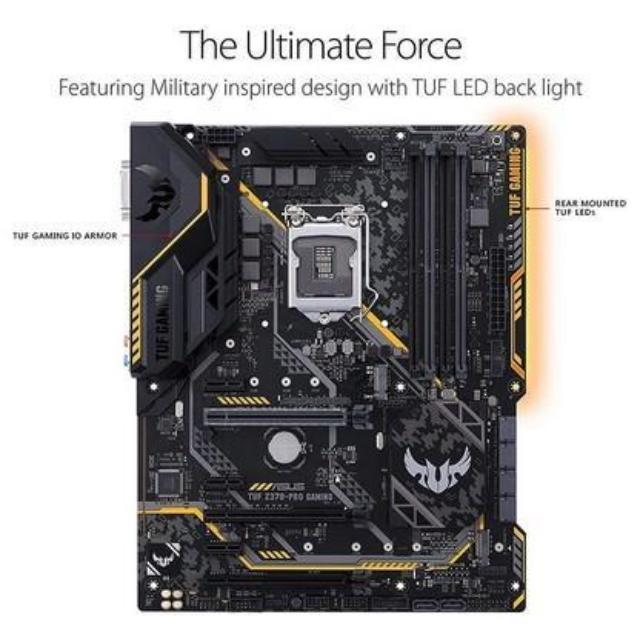Mainboard: (124, 110, 538, 622)
